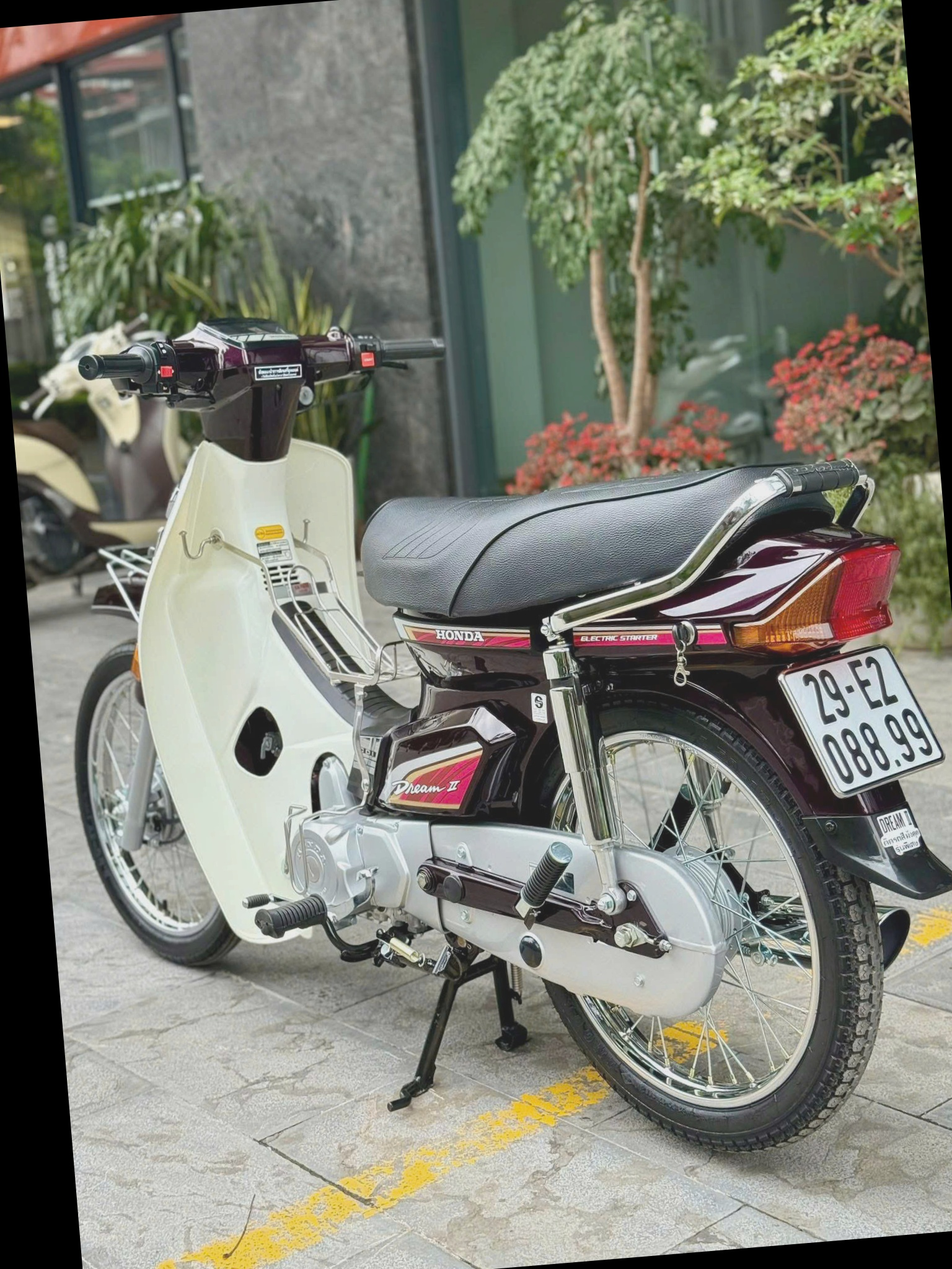Bien-so: (769, 657, 947, 804)
